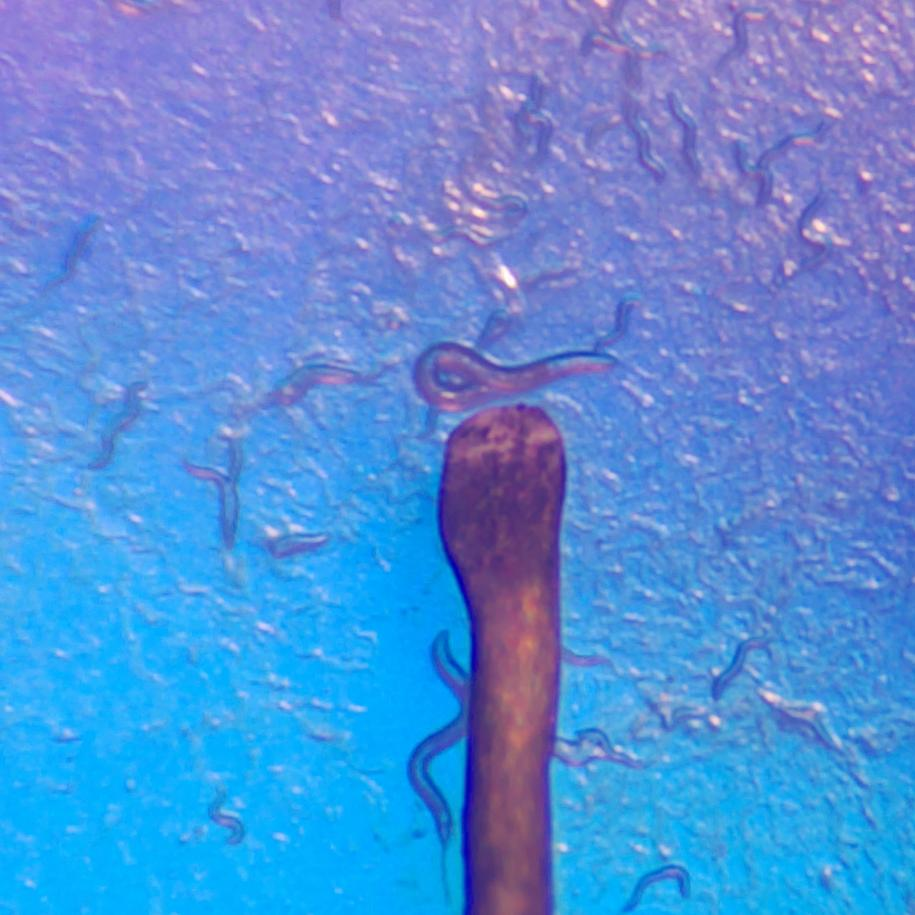pick: (440, 406, 564, 914)
worm: (408, 630, 468, 894), (414, 342, 617, 412), (184, 438, 242, 549), (712, 638, 766, 700), (624, 864, 690, 911)
